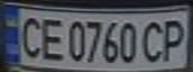0: (63, 17, 87, 63), (118, 19, 142, 64)
6: (100, 18, 121, 64)
7: (81, 18, 103, 64)
C: (15, 12, 45, 60), (139, 18, 169, 64)
E: (36, 15, 66, 62)
P: (157, 16, 190, 63)
